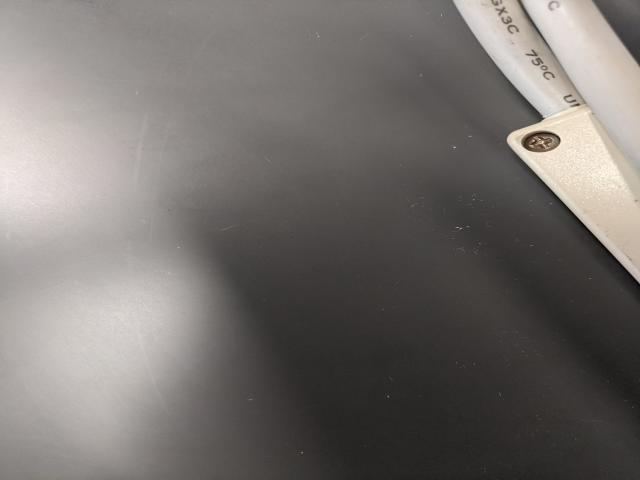CRS: (521, 130, 562, 152)
